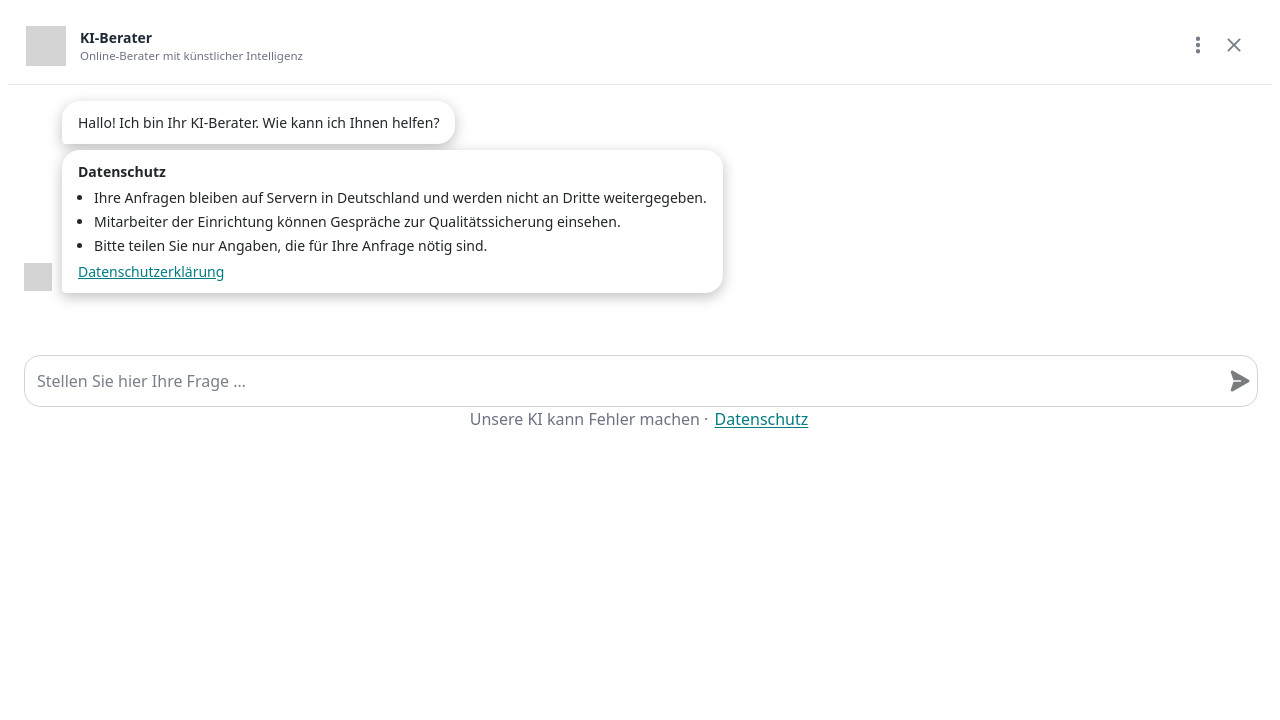
Vertrag 5 (D1): Link „Datenschutz“ in der Fußzeile bleibt, Fenster unverändert › de: Blase und Link, der Link öffnet das Fenster mit KI-Punkt
Expected: the element with id "anything-llm-privacy-bubble" is shown, [62, 150, 723, 293]
Expected: the text with id "anything-llm-ai-disclaimer-text" reads "Unsere KI kann Fehler machen", [470, 408, 700, 430]
Click the button with id "anything-llm-privacy-link" at (761, 419), box [712, 407, 810, 431]
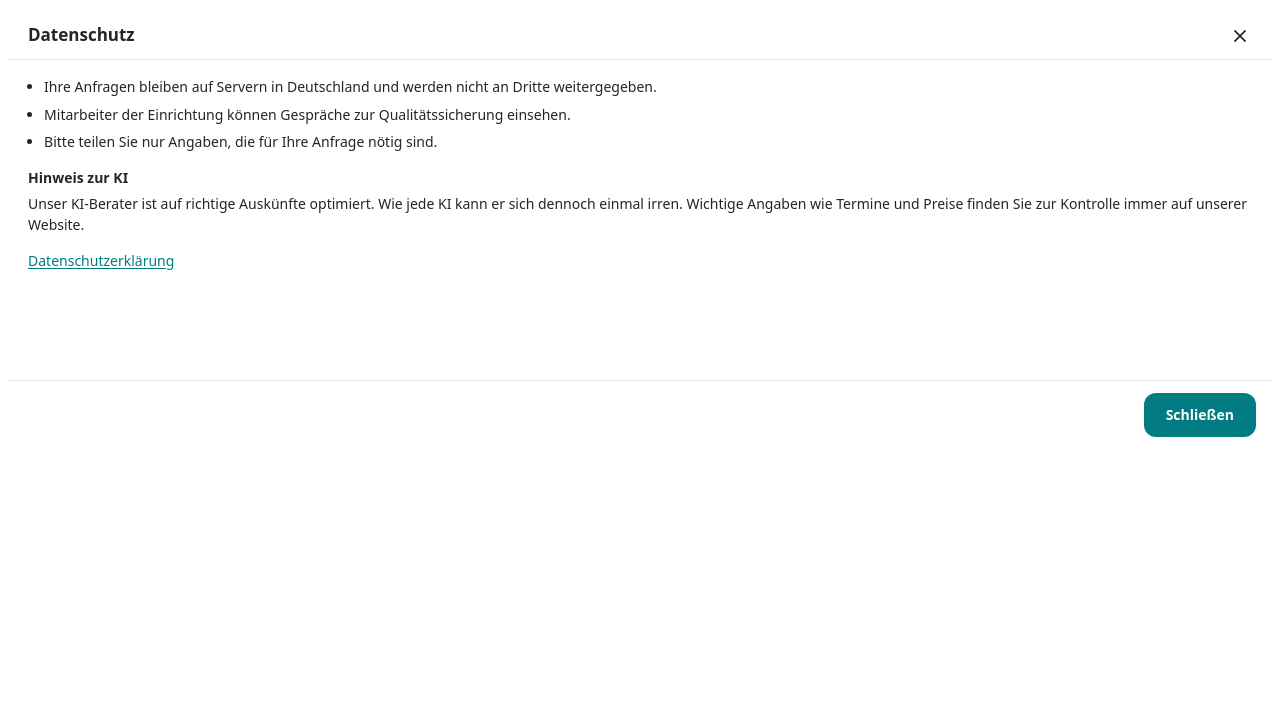
Expected: the dialog is shown
Expected: the dialog shows "Hinweis zur KI", [28, 168, 128, 187]
Expected: the dialog shows "Unser KI-Berater ist auf richtige Auskünfte optimiert. Wie jede KI kann er sich dennoch einmal irren. Wichtige Angaben wie Termine und Preise finden Sie zur Kon", [28, 194, 1247, 234]
